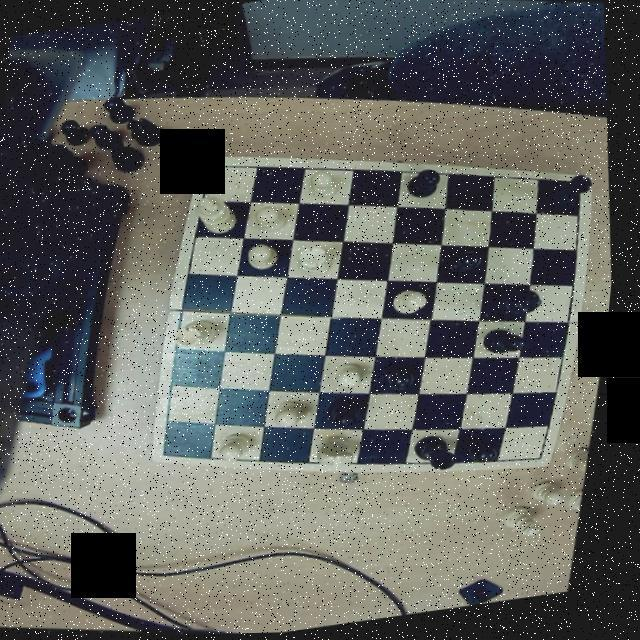chess-table-corners: (160, 436, 192, 465), (198, 155, 230, 183), (564, 172, 598, 196), (536, 443, 564, 468)
